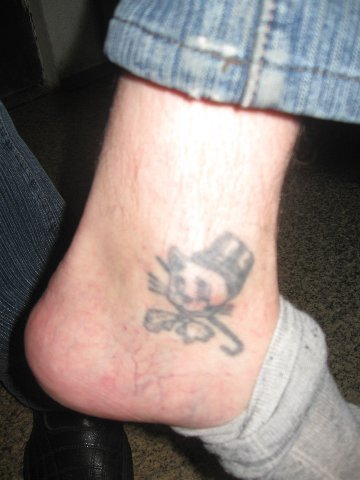tatu8_kot: (143, 223, 261, 365)
